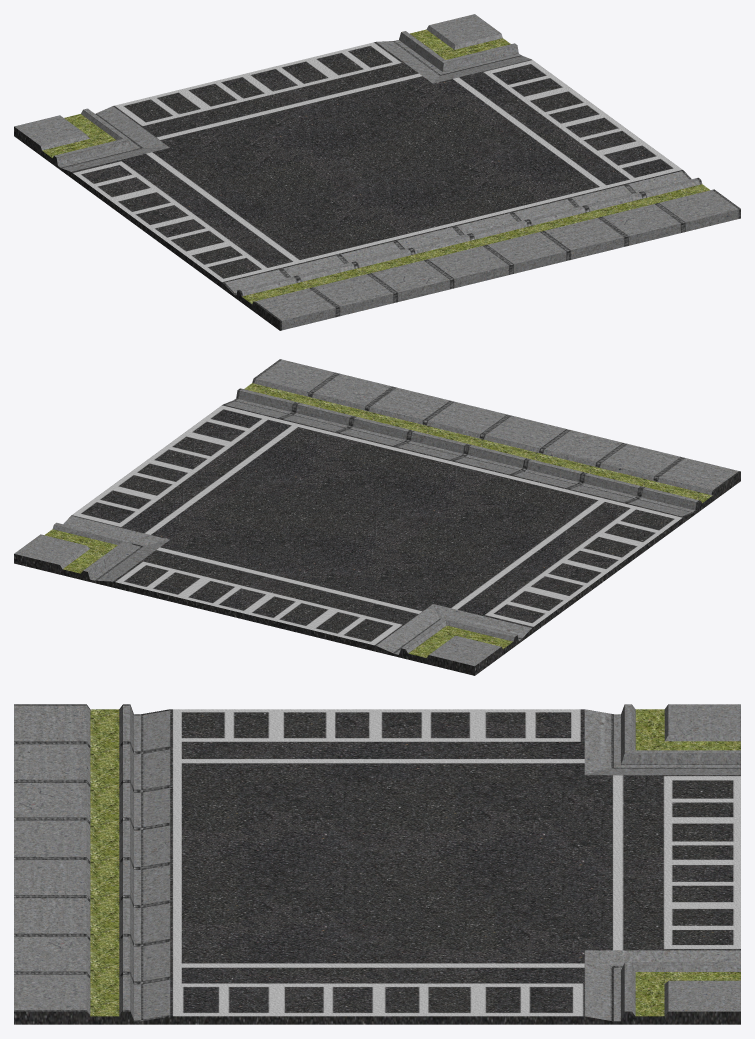
Rendered from Lane-T.glb.
The picture shows the model from 3 angles, top to bottom: view 1: azimuth 30°, elevation 25°; view 2: azimuth 150°, elevation 25°; view 3: azimuth 270°, elevation 25°; orthographic projection. The views are drawn at different scales.
Parts seen in each view (by area): view 1: Road-2-Lane-T; view 2: Road-2-Lane-T; view 3: Road-2-Lane-T.
Part boxes in pixels (left/top/right/bottom): Road-2-Lane-T: left=14, top=14, right=740, bottom=330; Road-2-Lane-T: left=14, top=359, right=740, bottom=675; Road-2-Lane-T: left=14, top=704, right=740, bottom=1024.
Size of the model in its own units: 18 by 0.36 by 18.
Materials: 1 (1 with a texture image).
